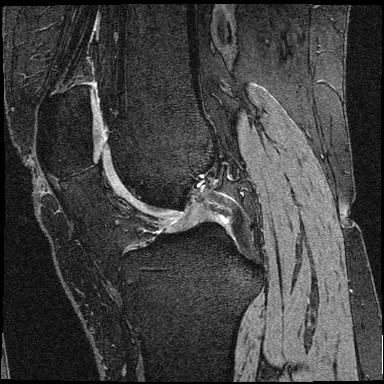SagKneeJointArea: (36, 84, 265, 315)
